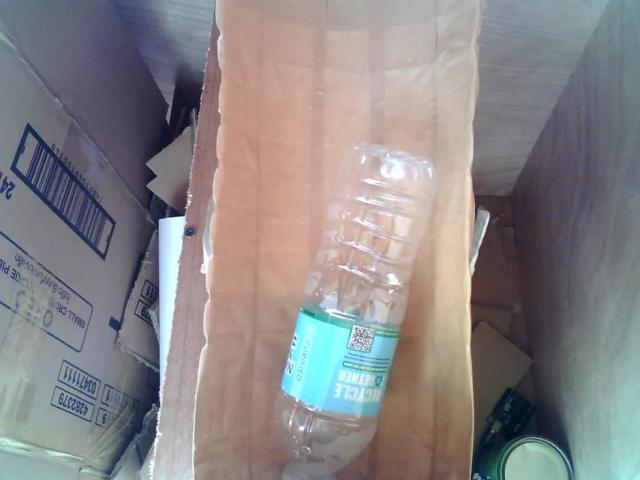small_bottle: (257, 135, 447, 476)
